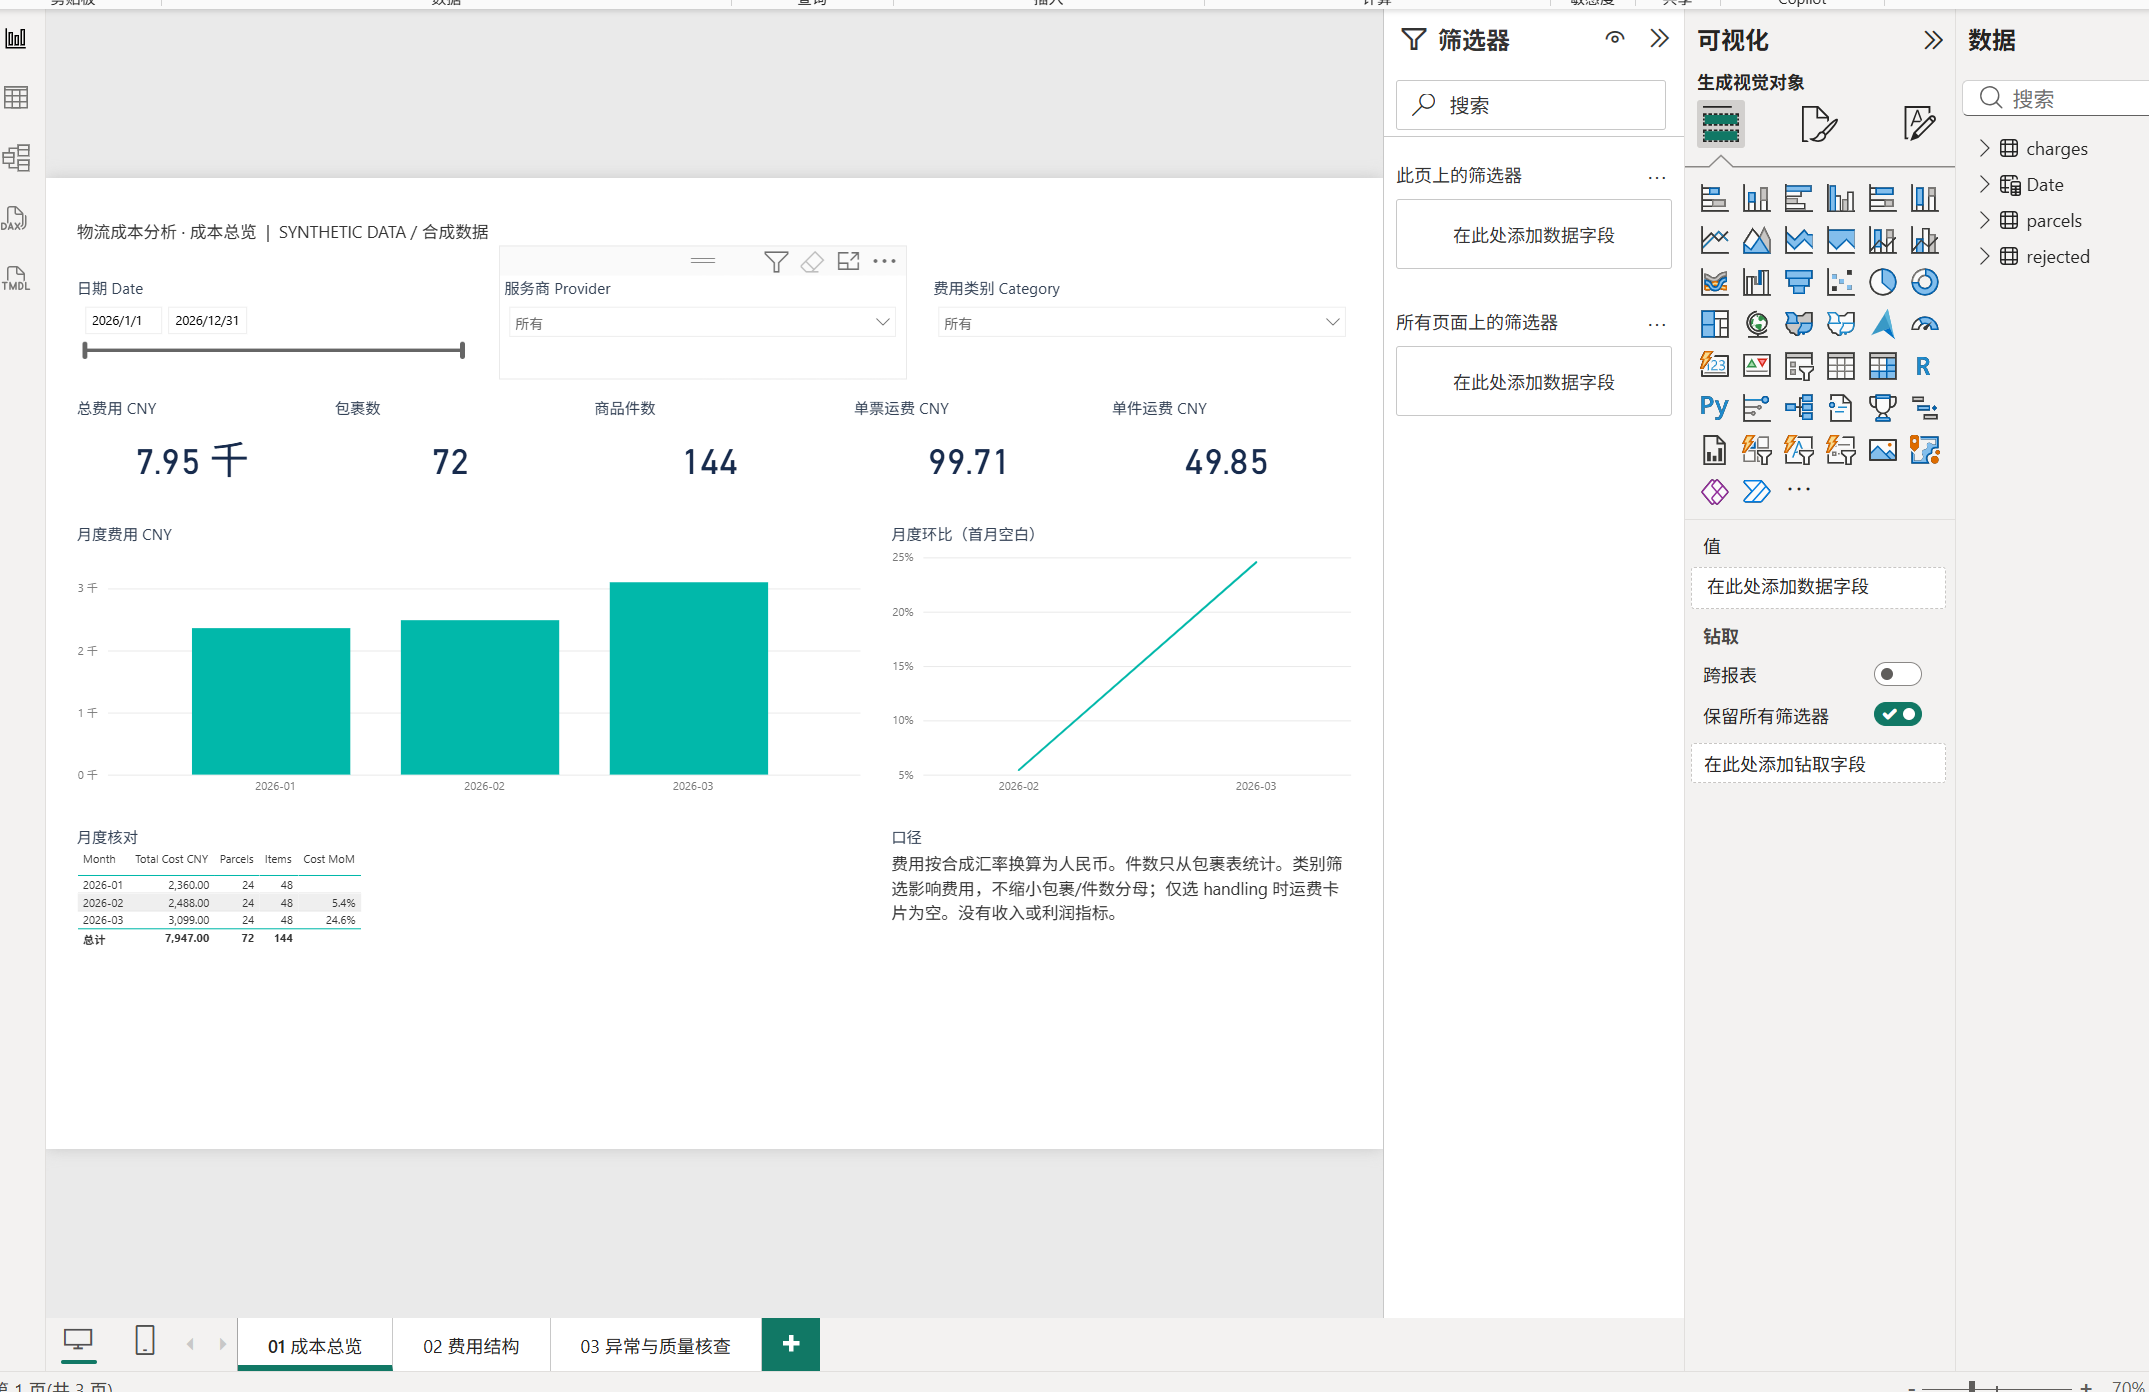

This screenshot's page, from the dashboard's own definition file:
{"tool":"powerbi","page":{"name":"01 成本总览","canvas":[1280,900],"ordinal":0},"visuals":[{"type":"textbox","title":"物流成本分析 · 成本总览","box":[24,5,1230,52],"z":0},{"type":"slicer","title":"日期 Date","fields":{"Values":["Date.Date"]},"box":[24,64,390,100],"z":1},{"type":"slicer","title":"服务商 Provider","fields":{"Values":["parcels.provider"]},"box":[434,64,390,100],"z":2},{"type":"slicer","title":"费用类别 Category","fields":{"Values":["charges.category"]},"box":[844,64,410,100],"z":3},{"type":"card","title":"总费用 CNY","fields":{"Values":["charges.Total Cost CNY"]},"box":[24,180,230,100],"z":4},{"type":"card","title":"包裹数","fields":{"Values":["charges.Parcels"]},"box":[272,180,230,100],"z":5},{"type":"card","title":"商品件数","fields":{"Values":["charges.Items"]},"box":[520,180,230,100],"z":6},{"type":"card","title":"单票运费 CNY","fields":{"Values":["charges.Freight per Parcel CNY"]},"box":[768,180,230,100],"z":7},{"type":"card","title":"单件运费 CNY","fields":{"Values":["charges.Freight per Item CNY"]},"box":[1016,180,230,100],"z":8},{"type":"clusteredColumnChart","title":"月度费用 CNY","fields":{"Category":["Date.Month"],"Y":["charges.Total Cost CNY"]},"box":[24,300,760,270],"z":9},{"type":"lineChart","title":"月度环比（首月空白）","fields":{"Category":["Date.Month"],"Y":["charges.Cost MoM"]},"box":[804,300,450,270],"z":10},{"type":"tableEx","title":"月度核对","fields":{"Values":["Date.Month","charges.Total Cost CNY","charges.Parcels","charges.Items","charges.Cost MoM"]},"box":[24,590,760,215],"z":11},{"type":"textbox","title":"口径","box":[804,590,450,215],"z":12}]}

Visuals, with their boxes on the page's 1280x900 design canvas (x1, y1, x2, y2). These are canvas units, not pixel positions in the 2149x1392 screenshot, which may show the page scaled, cropped or inside an application window:
"物流成本分析 · 成本总览" textbox: Rect(24, 5, 1254, 57)
"日期 Date" slicer: Rect(24, 64, 414, 164)
"服务商 Provider" slicer: Rect(434, 64, 824, 164)
"费用类别 Category" slicer: Rect(844, 64, 1254, 164)
"总费用 CNY" card: Rect(24, 180, 254, 280)
"包裹数" card: Rect(272, 180, 502, 280)
"商品件数" card: Rect(520, 180, 750, 280)
"单票运费 CNY" card: Rect(768, 180, 998, 280)
"单件运费 CNY" card: Rect(1016, 180, 1246, 280)
"月度费用 CNY" clusteredColumnChart: Rect(24, 300, 784, 570)
"月度环比（首月空白）" lineChart: Rect(804, 300, 1254, 570)
"月度核对" tableEx: Rect(24, 590, 784, 805)
"口径" textbox: Rect(804, 590, 1254, 805)
